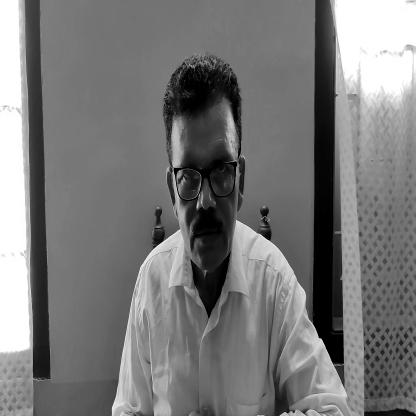Normal: (167, 66, 247, 278)
